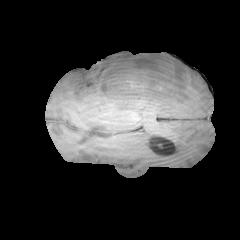glioma: (86, 51, 187, 114)
